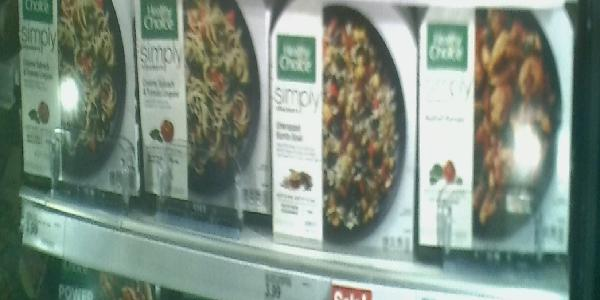pizza1: (418, 2, 568, 259), (270, 1, 415, 263), (135, 1, 269, 216), (16, 1, 142, 199)
